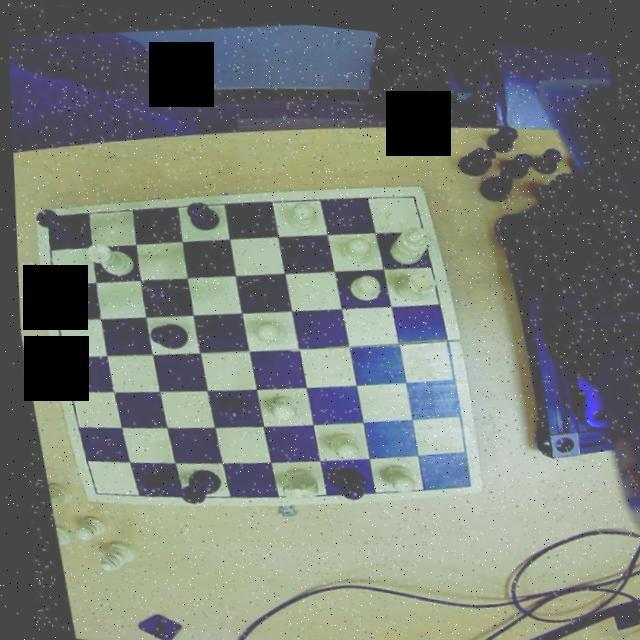chess-table-corners: (446, 461, 474, 487), (31, 206, 62, 227), (398, 180, 423, 205), (75, 477, 99, 499)
